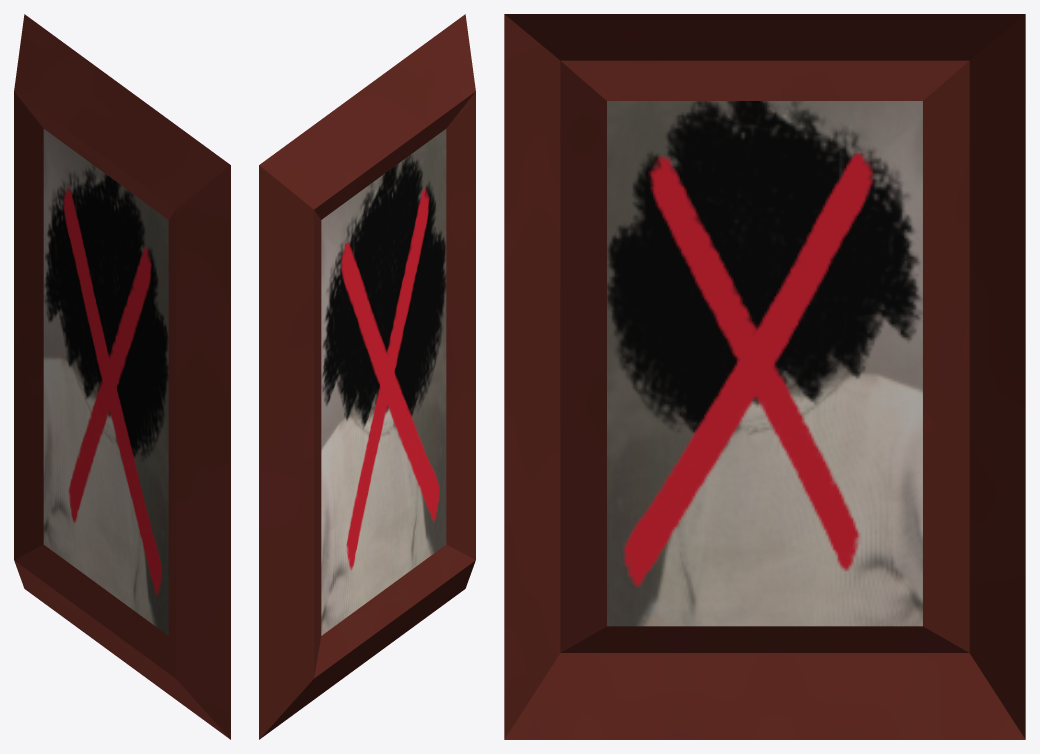
Rendered from Cuadro5.fbx.
3 renders of one model, left to right at view 1: azimuth 30°, elevation 25°; view 2: azimuth 150°, elevation 25°; view 3: azimuth 270°, elevation 25°, orthographic. The views are drawn at different scales.
Visible parts, largest first — view 1: Cuadro.002; view 2: Cuadro.002; view 3: Cuadro.002.
Part boxes in pixels (box(x1,y1,x2,y2)): Cuadro.002: box(14, 14, 230, 739); Cuadro.002: box(259, 14, 475, 739); Cuadro.002: box(504, 14, 1025, 739).
Size of the model in its own units: 4.05 by 68.15 by 44.38.
